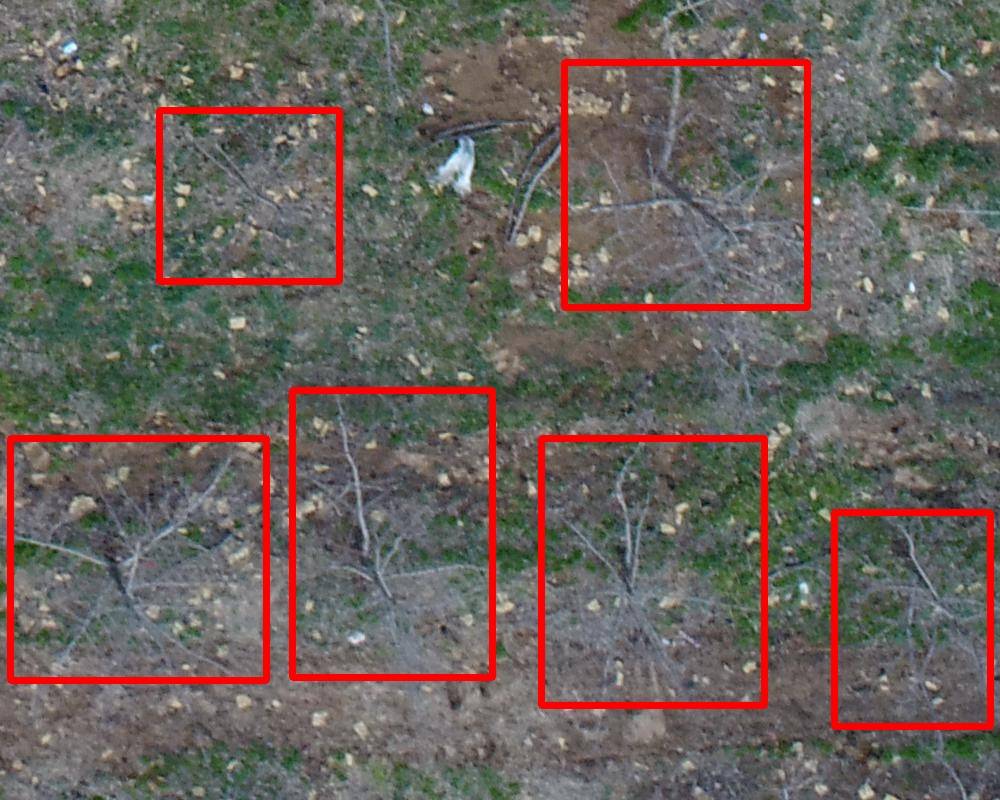apple: (10, 438, 266, 680), (541, 438, 764, 705), (564, 62, 807, 307), (292, 390, 492, 677), (834, 512, 990, 726), (159, 110, 339, 281)
